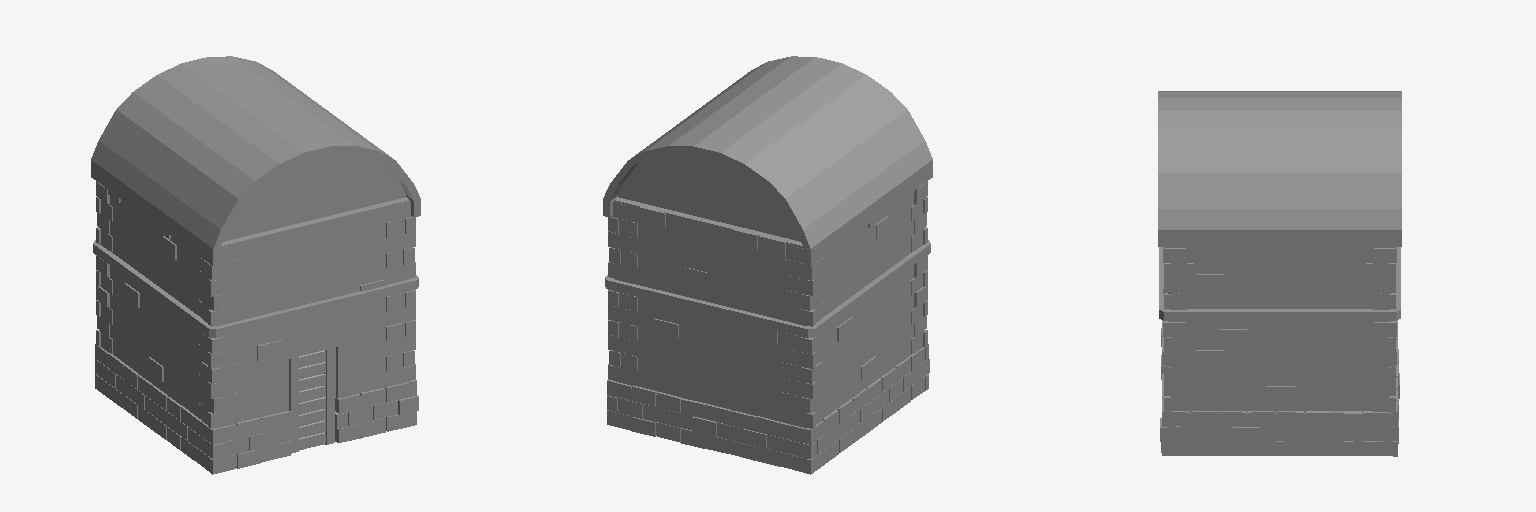
The model's file is 2Story_RoundRoof.obj.
3 renders of one model, left to right at view 1: azimuth 30°, elevation 25°; view 2: azimuth 150°, elevation 25°; view 3: azimuth 270°, elevation 25°, orthographic.
Visible parts, largest first — view 1: 2Story_RoundRoof_Cube.148; view 2: 2Story_RoundRoof_Cube.148; view 3: 2Story_RoundRoof_Cube.148.
Boxes of the visible parts, x1,y1,x2,y2 form: 2Story_RoundRoof_Cube.148: [91, 56, 420, 474]; 2Story_RoundRoof_Cube.148: [603, 56, 932, 474]; 2Story_RoundRoof_Cube.148: [1158, 91, 1401, 456].
Bounding box in the file's own units: 2.11 × 2.9 × 2.13.